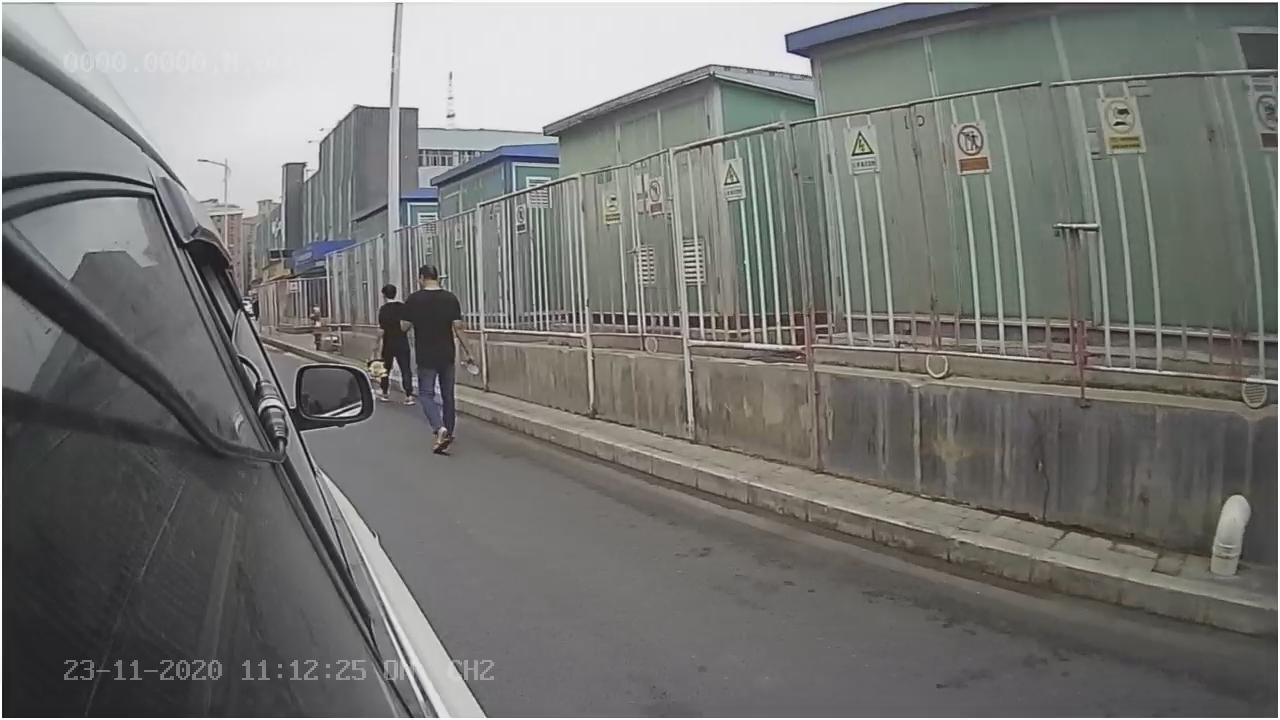person: (402, 263, 483, 449)
